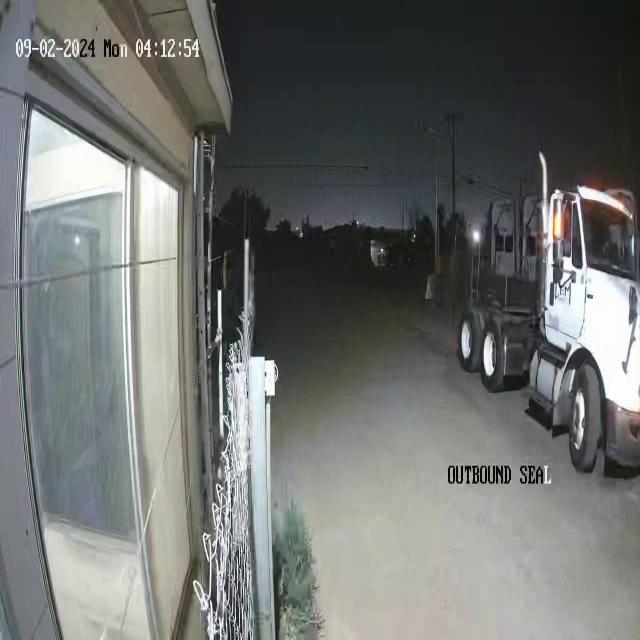TRUCK_IN: (453, 148, 639, 478)
